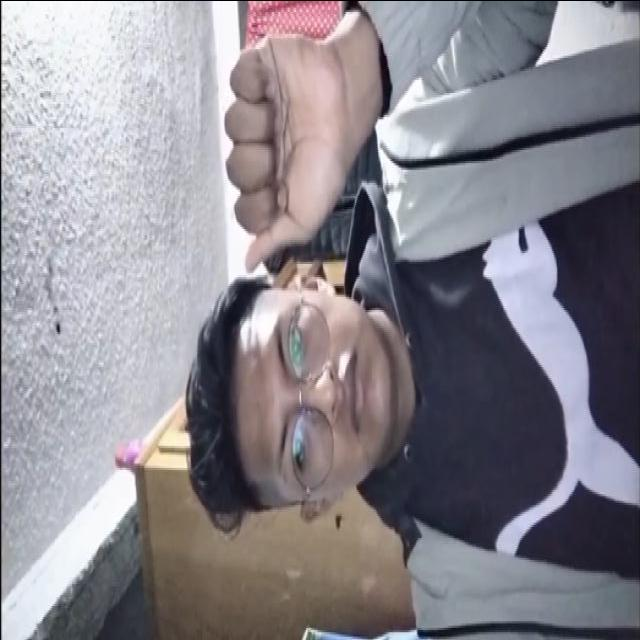A: (213, 10, 371, 274)
